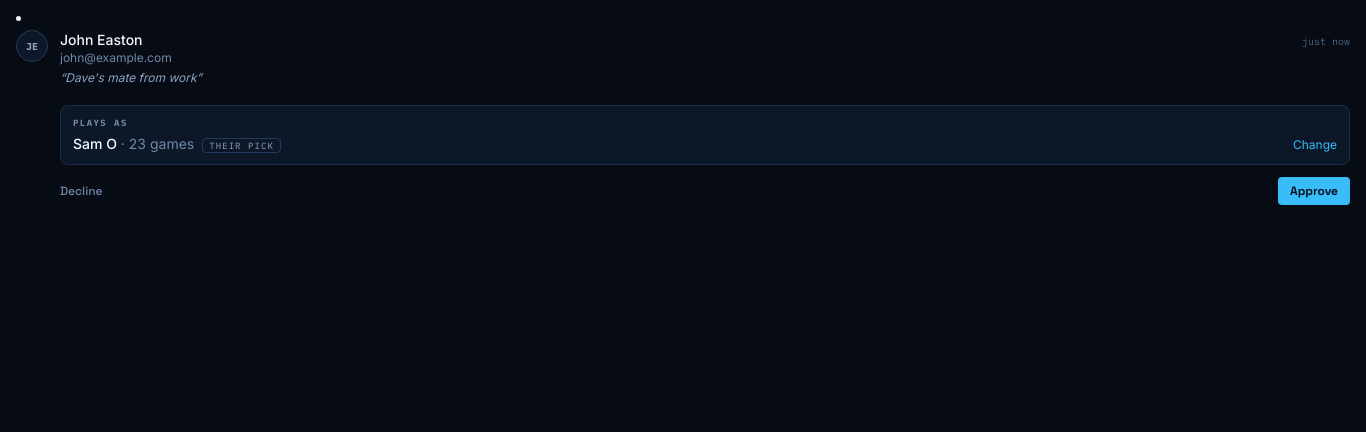
Test case: ReviewCard › Change opens the squad list and picking a row selects them
Click the button "Change" at (1315, 144), box top-left (1293, 136), bottom-right (1337, 152)
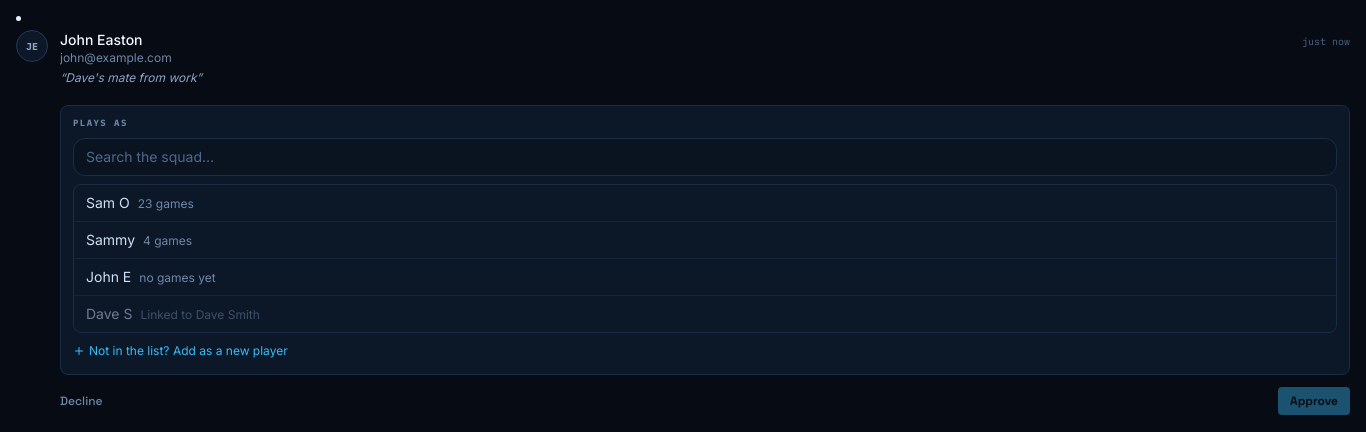
Type "sam" into the field labelled "Search the squad" at (705, 156), box top-left (73, 138), bottom-right (1337, 176)
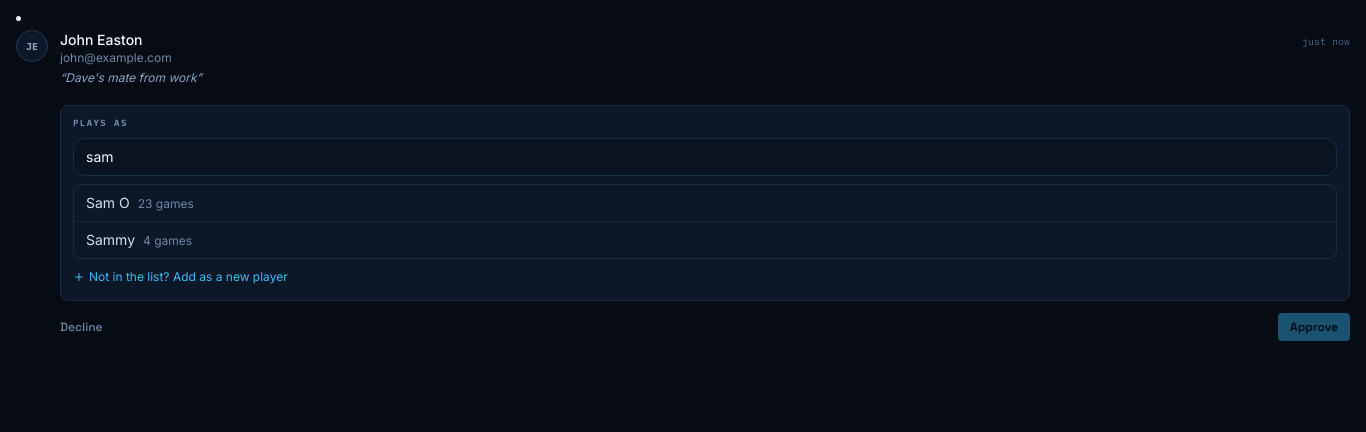
Click the button "Sammy 4 games" at (111, 239), box top-left (74, 222), bottom-right (1336, 258)
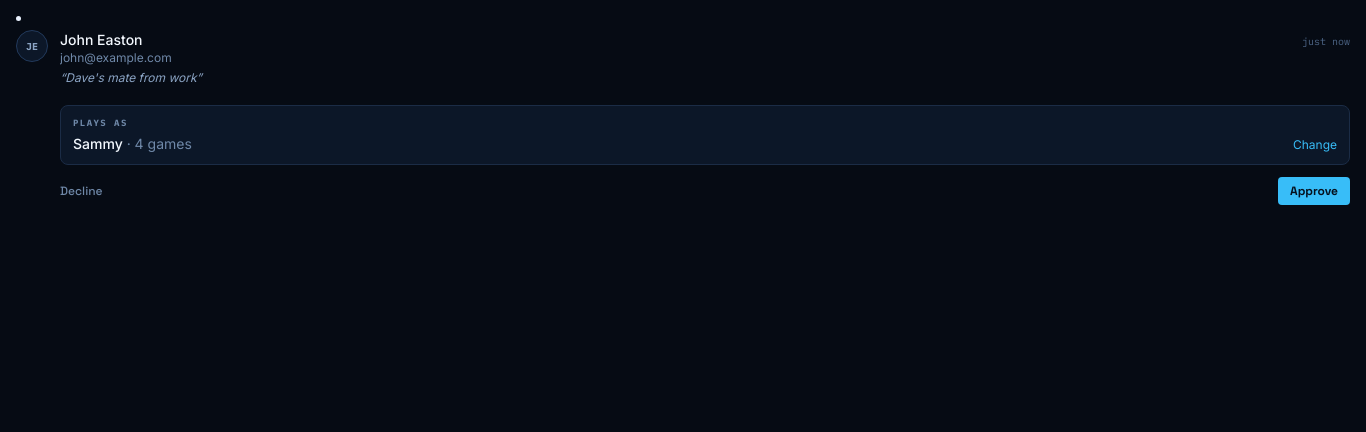
Expected: the text "Their pick" is not shown
Result: the text "· 4 games" is shown at top-left (123, 134), bottom-right (192, 152)
